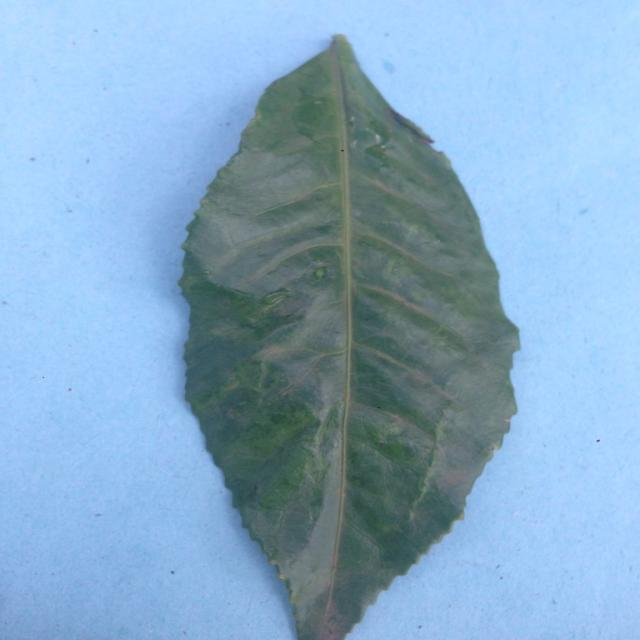Healthy: (148, 7, 530, 640)
